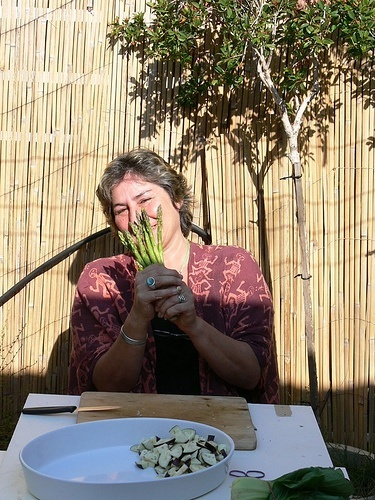head: (110, 150, 184, 251)
person: (64, 150, 272, 395)
